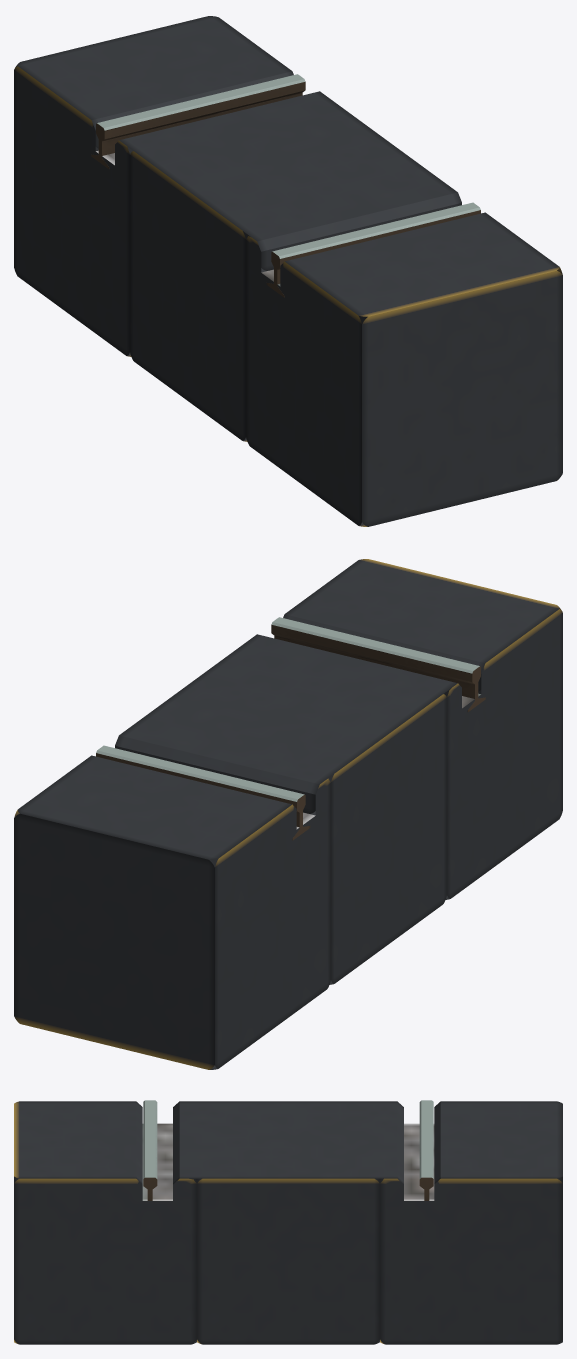
Rendered from spsf_street_running_gray_concrete.obj.
The picture shows the model from 3 angles, top to bottom: view 1: azimuth 30°, elevation 25°; view 2: azimuth 150°, elevation 25°; view 3: azimuth 270°, elevation 25°; orthographic projection. The views are drawn at different scales.
Visible parts, largest first — view 1: RAIL_BASE_Cube.001, RAIL_RIGHT_Cube.010, RAIL_LEFT_Cube.002; view 2: RAIL_BASE_Cube.001, RAIL_LEFT_Cube.002, RAIL_RIGHT_Cube.010; view 3: RAIL_BASE_Cube.001, RAIL_LEFT_Cube.002, RAIL_RIGHT_Cube.010.
Part boxes in pixels (x1,y1,x2,y2): RAIL_BASE_Cube.001: (14,16,562,526); RAIL_RIGHT_Cube.010: (91,74,305,168); RAIL_LEFT_Cube.002: (266,202,480,297); RAIL_BASE_Cube.001: (14,559,562,1069); RAIL_LEFT_Cube.002: (271,617,485,711); RAIL_RIGHT_Cube.010: (96,745,310,840); RAIL_BASE_Cube.001: (14,1101,562,1344); RAIL_LEFT_Cube.002: (143,1100,157,1200); RAIL_RIGHT_Cube.010: (419,1100,433,1200).
Bounding box in the file's own units: 1 × 1.01 × 3.
Materials: 1 (1 with a texture image).
